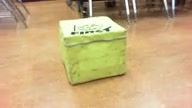cube: (59, 16, 128, 85)
